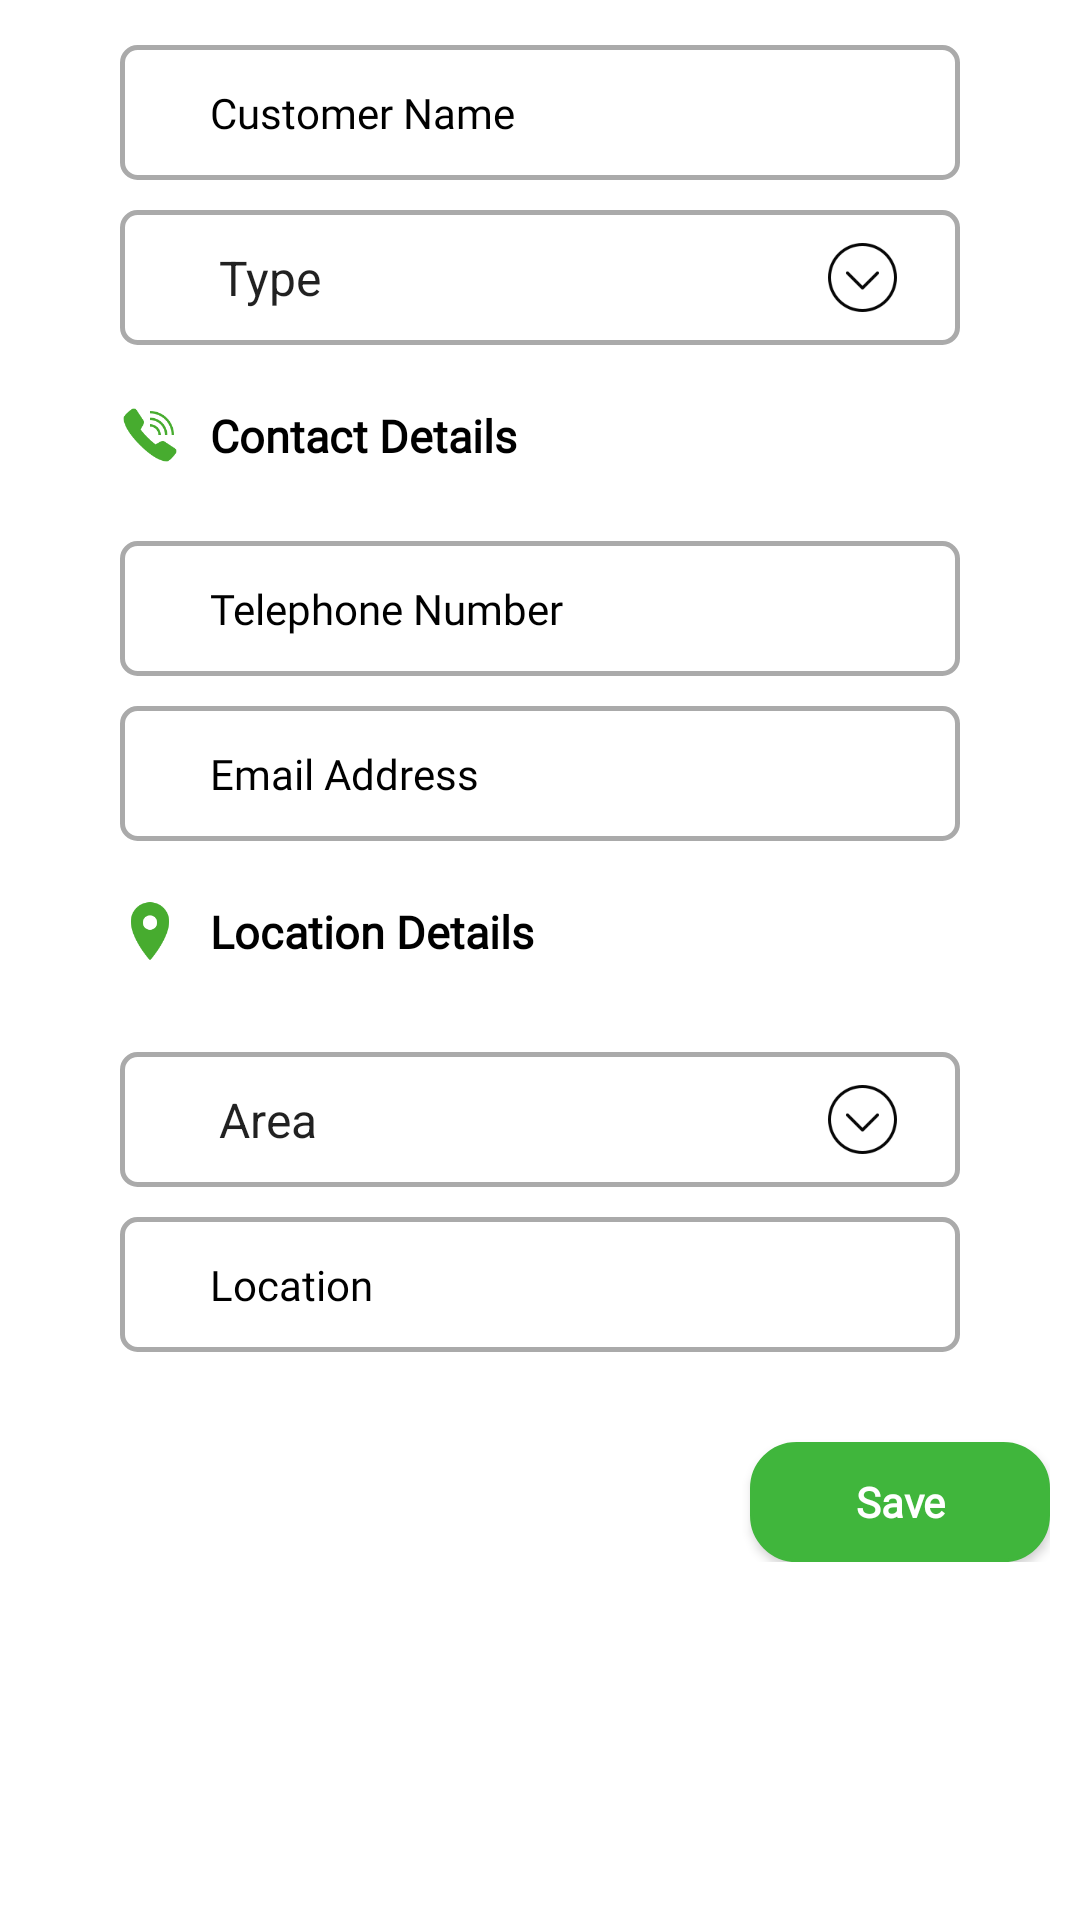

Point at icon controls on the screen. Image size 1080 x 1920, points as (x=x, y=y).
bottom: (x=862, y=277), (x=862, y=1119)
phone ring: (x=150, y=435)
